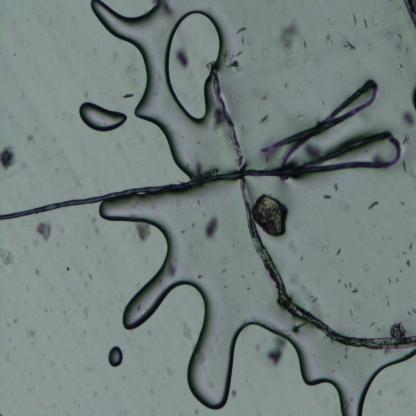Air bubble: (99, 200, 243, 401), (90, 0, 214, 174), (295, 348, 416, 414), (164, 8, 225, 122), (78, 101, 128, 133), (108, 344, 124, 368)
Background material: (220, 22, 260, 76), (254, 191, 290, 238), (344, 7, 379, 34), (266, 336, 289, 367), (276, 21, 302, 47), (396, 240, 415, 271), (0, 141, 17, 172), (338, 275, 361, 297), (205, 214, 223, 242), (404, 0, 416, 38), (406, 81, 416, 125), (366, 197, 386, 216), (174, 47, 190, 70), (388, 321, 408, 339), (340, 32, 358, 52), (135, 223, 151, 244), (38, 221, 52, 244), (0, 248, 14, 269), (402, 109, 416, 127), (332, 182, 342, 195), (323, 194, 332, 202)
Cellulose filter fibre: (208, 67, 416, 350)
Microfibre: (0, 76, 402, 222)
